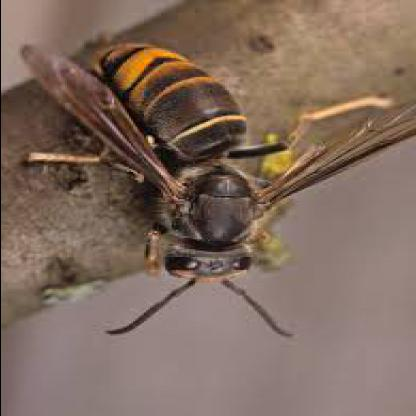asian: (13, 61, 412, 344)
